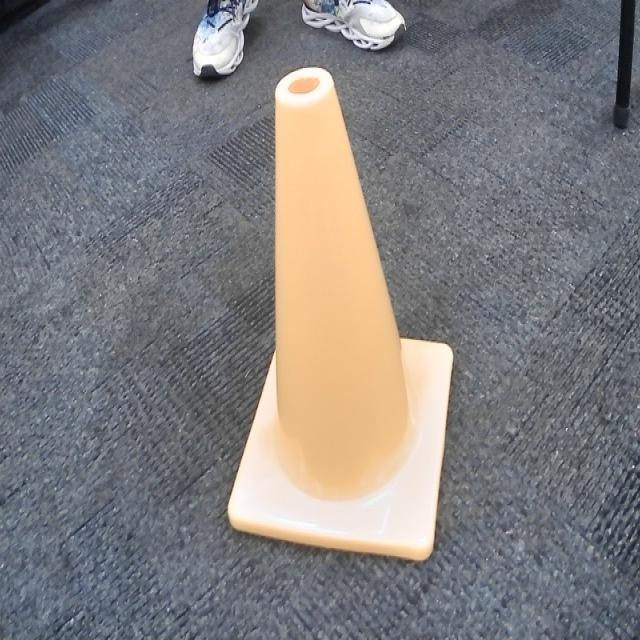cone: (223, 64, 456, 569)
